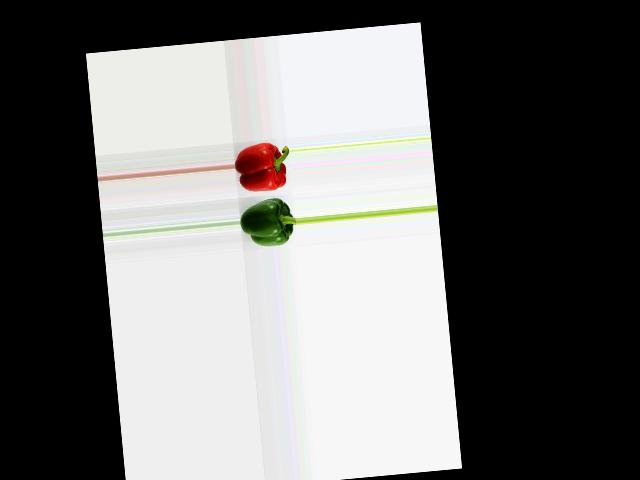bell_pepper: (240, 194, 297, 250)
